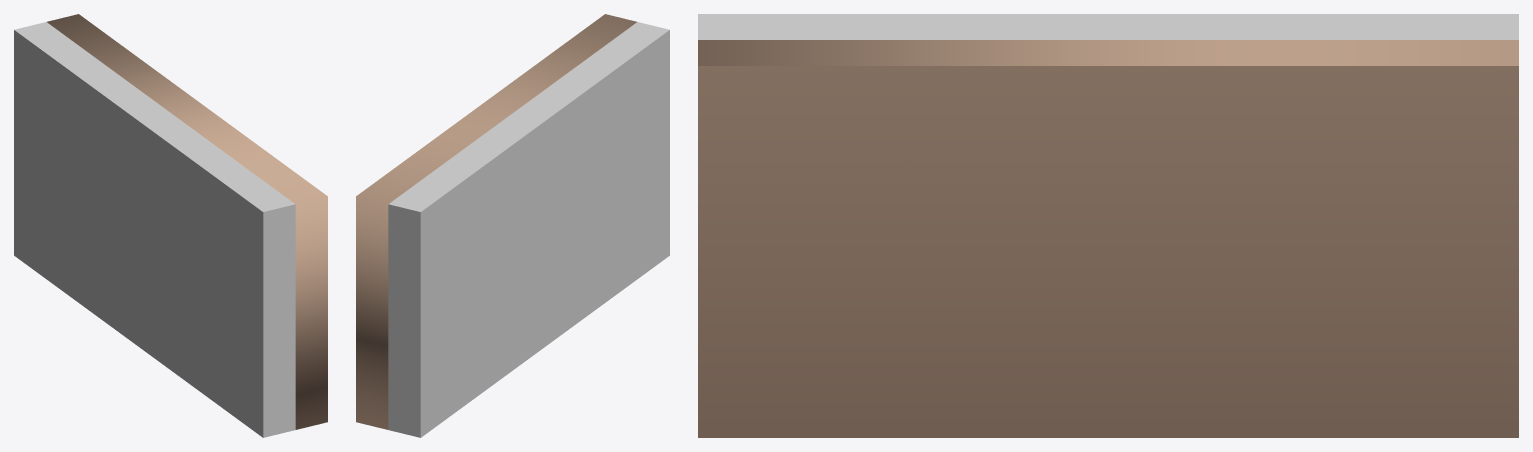
File: art-canvas-landscape (%wall).glb
The picture shows the model from 3 angles, left to right: view 1: azimuth 30°, elevation 25°; view 2: azimuth 150°, elevation 25°; view 3: azimuth 270°, elevation 25°; orthographic projection. The views are drawn at different scales.
Parts seen in each view (by area): view 1: art-canvas-landscape (%wall); view 2: art-canvas-landscape (%wall); view 3: art-canvas-landscape (%wall).
Boxes of the visible parts, x1,y1,x2,y2 form: art-canvas-landscape (%wall): [14, 14, 327, 437]; art-canvas-landscape (%wall): [356, 14, 669, 437]; art-canvas-landscape (%wall): [698, 14, 1518, 437].
Size of the model in its own units: 0.15 by 0.5 by 1.
